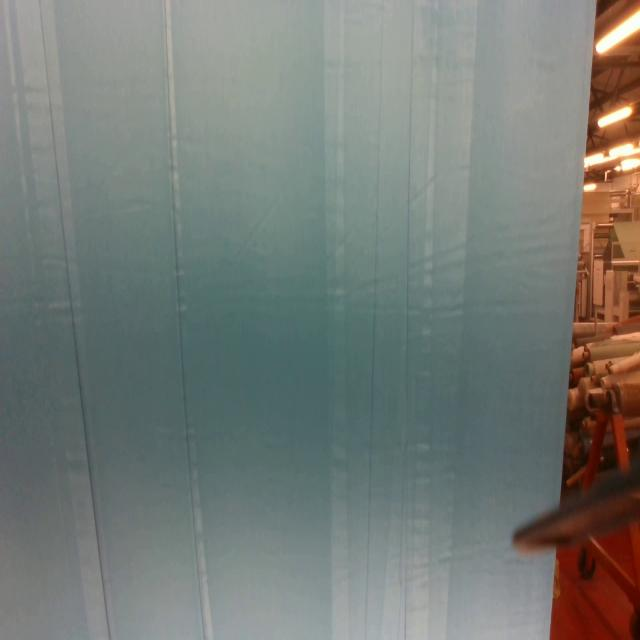crease: (324, 0, 477, 640), (16, 0, 112, 638), (162, 0, 210, 636)
